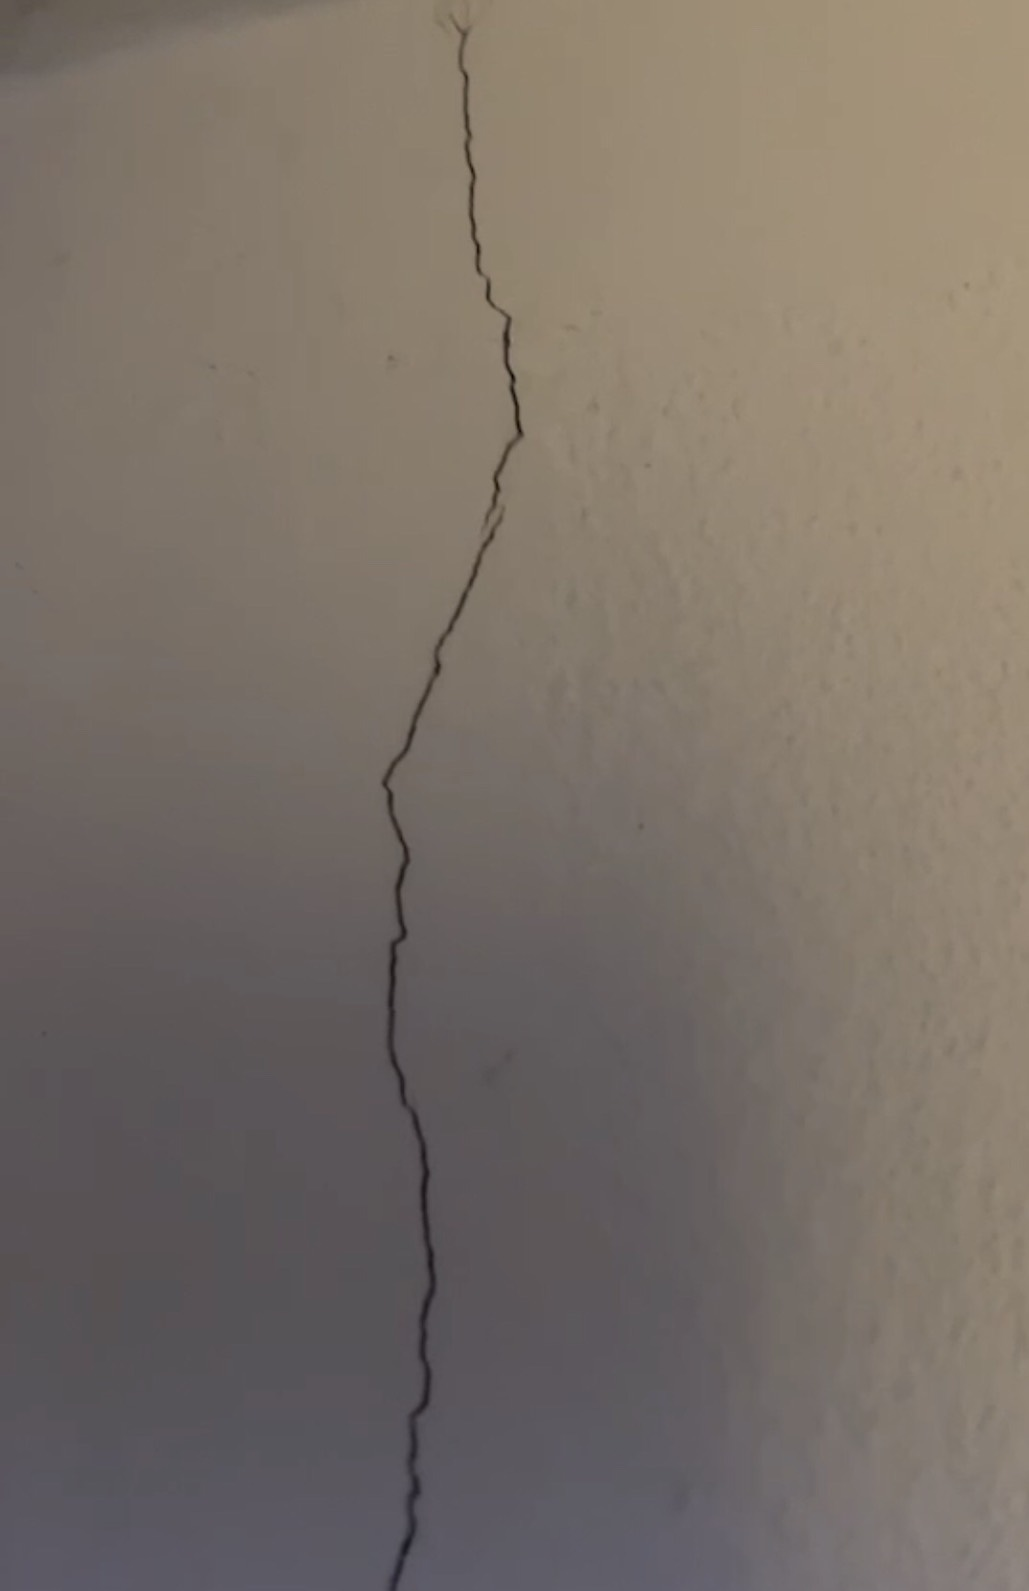Medium: (197, 42, 677, 1536)
